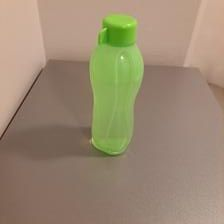bottle: (87, 10, 145, 153)
